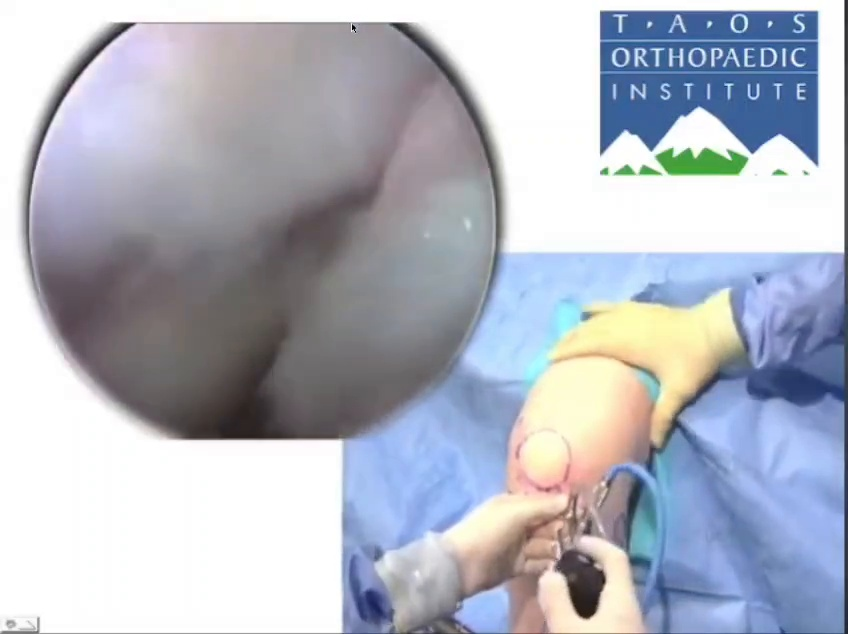arthroscope: (123, 383, 424, 475)
